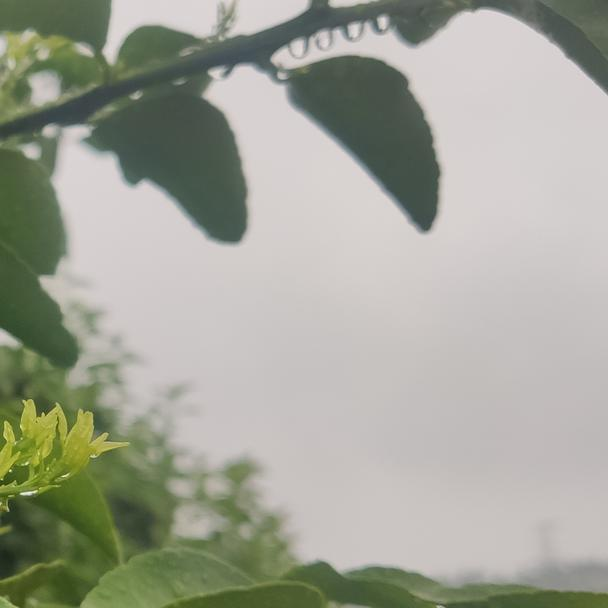shoot: (19, 415, 132, 499), (2, 408, 61, 487)
